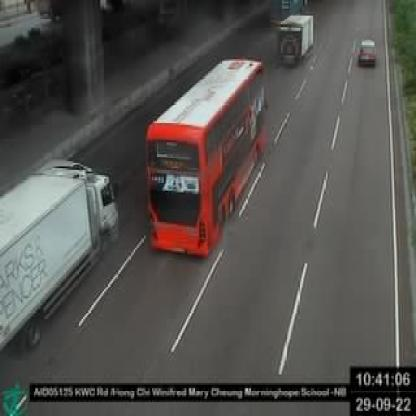Bus: (144, 55, 277, 260)
Car: (355, 28, 382, 69)
Truck: (0, 159, 118, 351), (274, 10, 312, 74)
